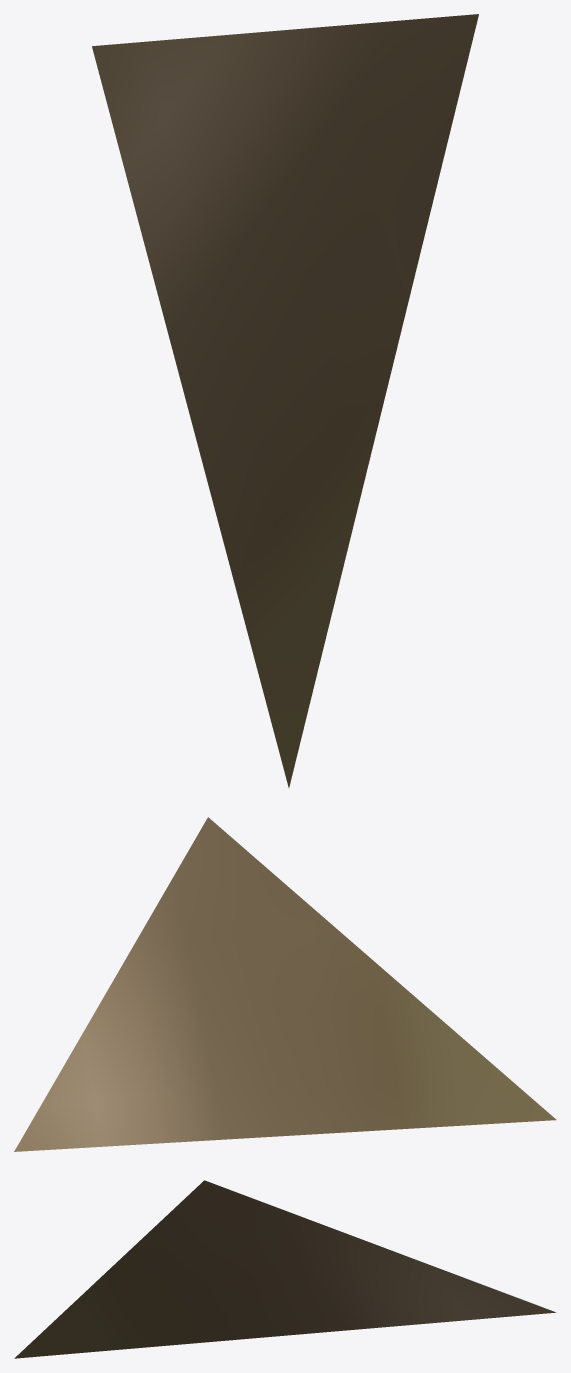
3 views of the same model, one above another, from view 1: azimuth 30°, elevation 25°; view 2: azimuth 150°, elevation 25°; view 3: azimuth 270°, elevation 25° (orthographic). The views are drawn at different scales.
Bounding box in the file's own units: 0.0753 × 0.1026 × 0.186.
Materials: 1 (1 with a texture image).
